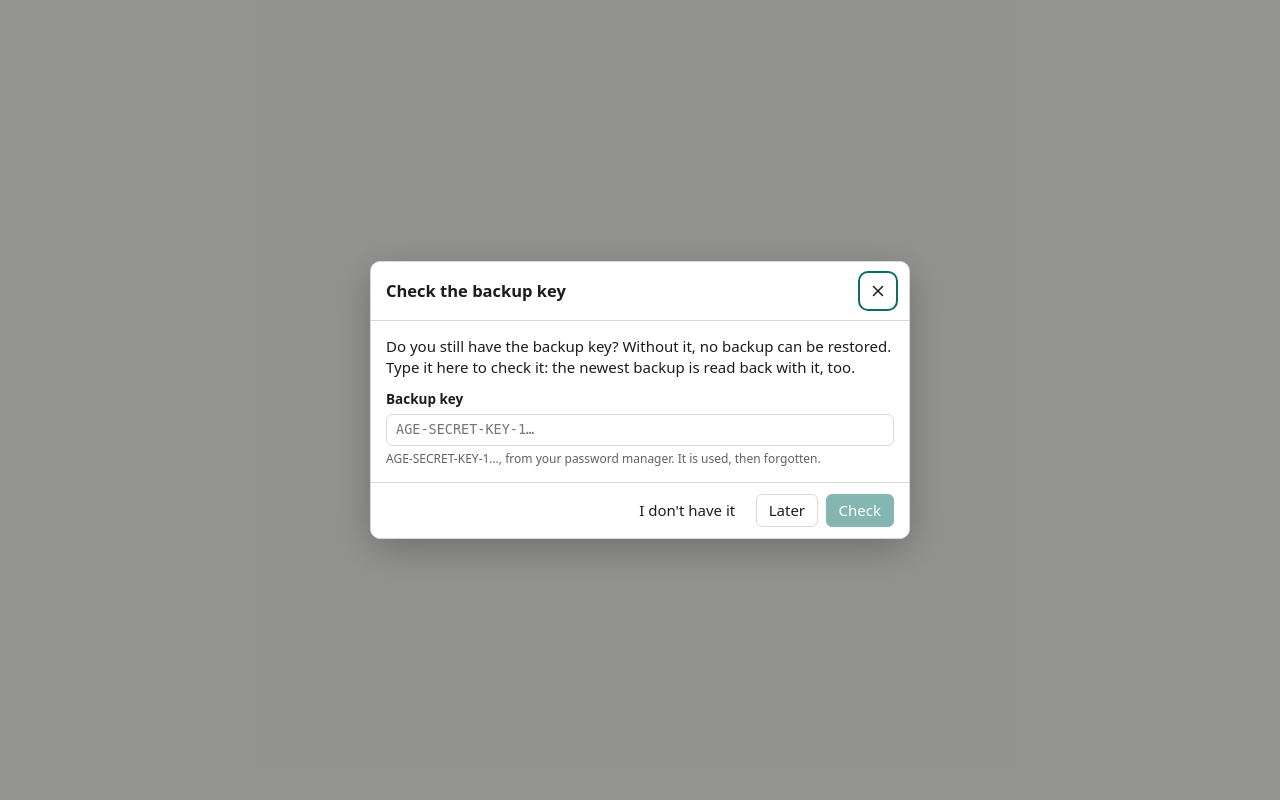
KeyCheckDialog › says when there is no key any more
Click the button "I don't have it" at {"x": 687, "y": 511}, box [626,494,748,527]
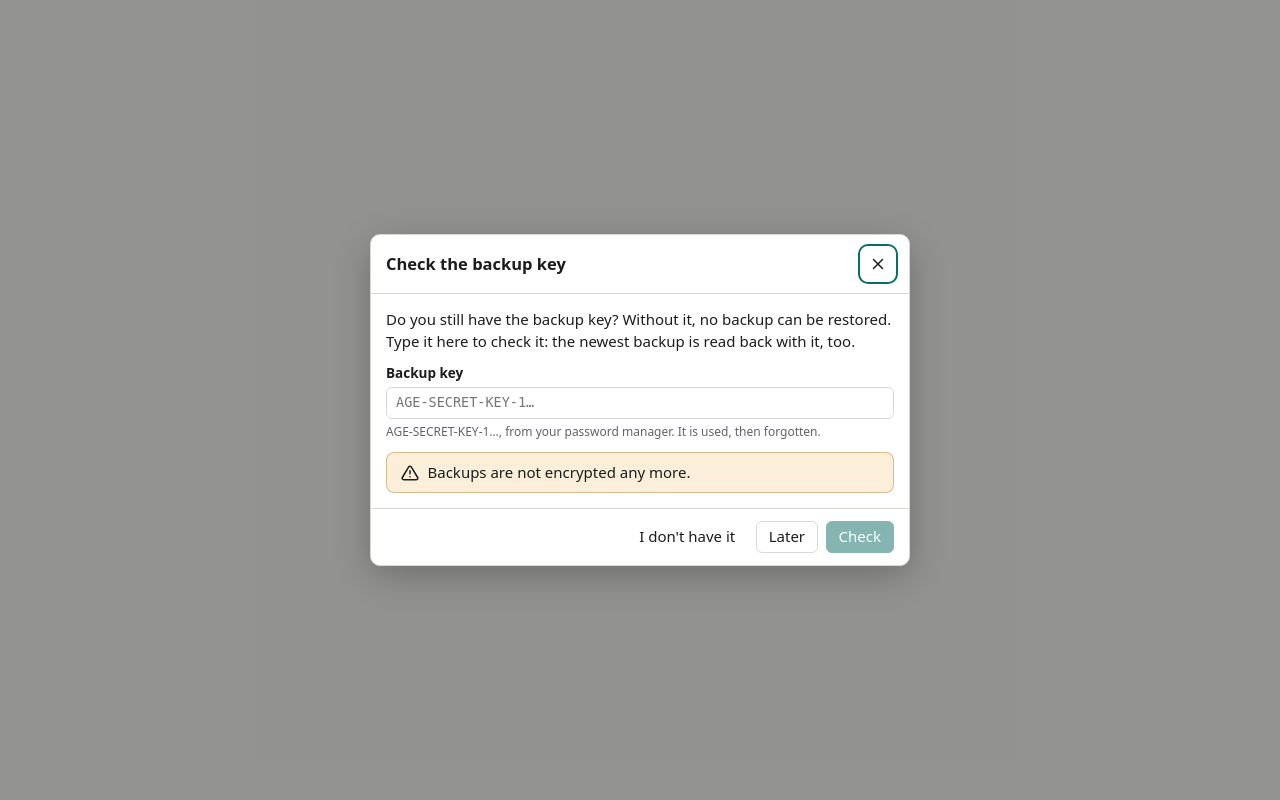
Expected: the text "Backups are not encrypted any more." is shown, [428,462,690,484]
